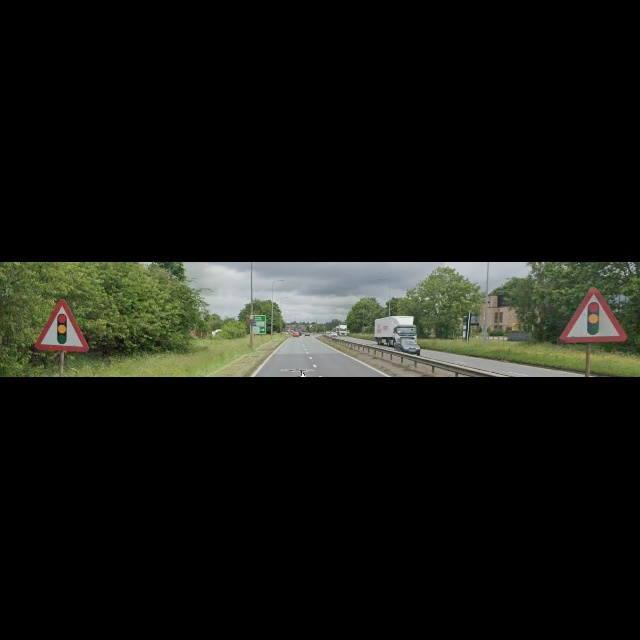Traffic lights: (556, 286, 628, 345), (36, 298, 90, 353)
